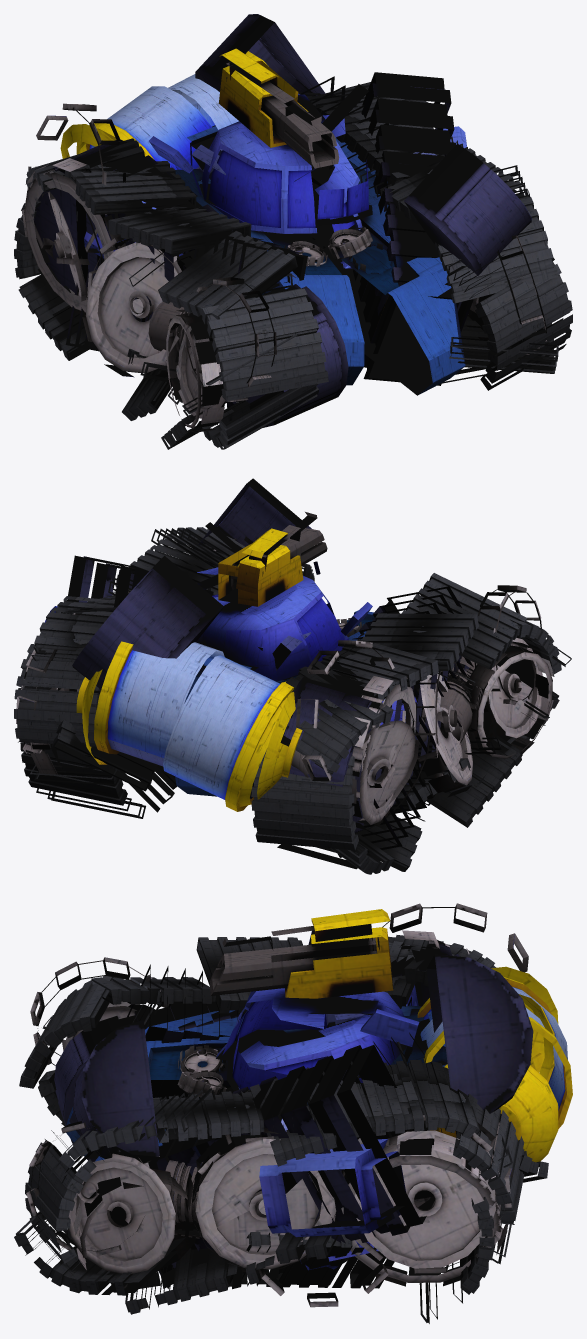
The model's file is PlayerB_die7.obj.
3 renders of one model, top to bottom at view 1: azimuth 30°, elevation 25°; view 2: azimuth 150°, elevation 25°; view 3: azimuth 270°, elevation 25°, orthographic. The views are drawn at different scales.
Visible parts, largest first — view 1: Object005; view 2: Object005; view 3: Object005.
Part boxes in pixels (x1,y1,x2,y2): Object005: [14, 14, 572, 449]; Object005: [14, 478, 571, 874]; Object005: [14, 903, 572, 1323].
Bounding box in the file's own units: 145 × 109 × 158.
2 materials, 2 textured.
